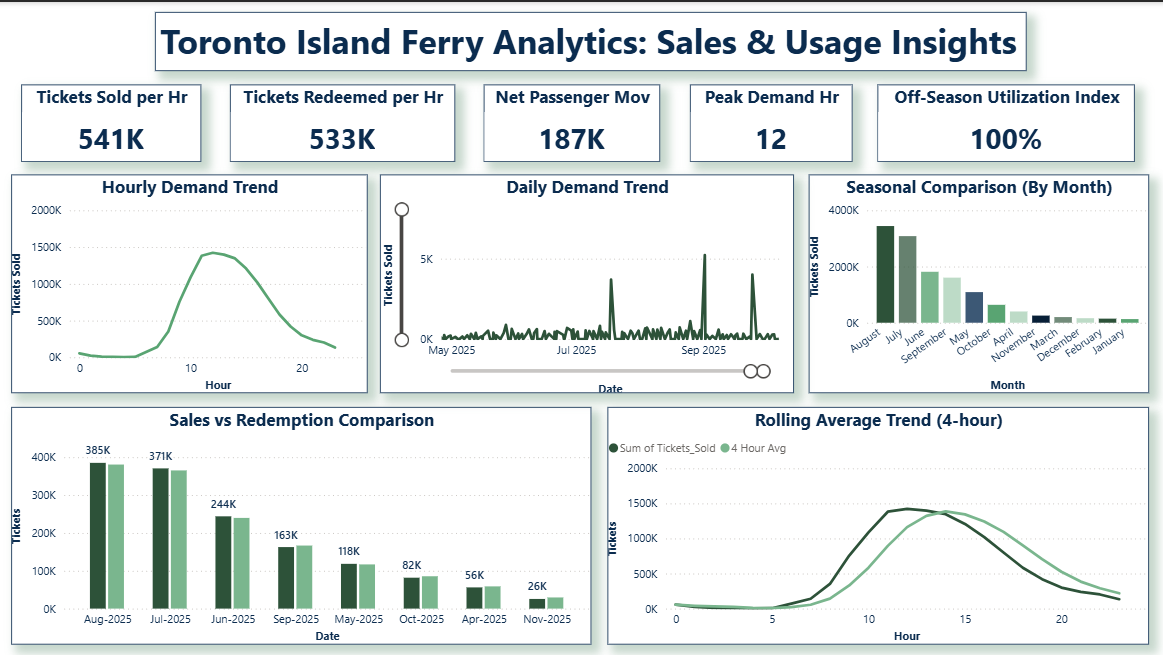

The page's visual inventory and layout, read from the dashboard file:
{"tool":"powerbi","page":{"name":"Page 1","canvas":[1280,720],"ordinal":0},"visuals":[{"type":"textbox","box":[170.2,11,956.4,64.5],"z":0},{"type":"cardVisual","title":"Tickets Sold per Hr","fields":{"Data":["Toronto Island Ferry Tickets.Tickets Sold per Hour"]},"box":[23.3,90.6,197.6,85.1],"z":1000},{"type":"cardVisual","title":"Tickets Redeemed per Hr","fields":{"Data":["Toronto Island Ferry Tickets.T redeemed per hour"]},"box":[252.5,90.6,247,85.1],"z":2000},{"type":"cardVisual","title":"Net Passenger Mov","fields":{"Data":["Toronto Island Ferry Tickets.Net passenger mov"]},"box":[531,90.6,193.5,85.1],"z":3000},{"type":"cardVisual","title":"Peak Demand Hr","fields":{"Data":["Toronto Island Ferry Tickets.Peak Demand Hour"]},"box":[757.5,90.6,178.4,85.1],"z":4000},{"type":"cardVisual","title":"Off-Season Utilization Index","fields":{"Data":["Season Sales.Off-Season Utilization Index"]},"box":[963.3,90.6,282.7,85.1],"z":5000},{"type":"lineChart","title":"Hourly Demand Trend","fields":{"Category":["1 Chart.Hour"],"Y":["Sum(1 Chart.Total Sales)"]},"box":[12.3,189.4,391.1,240.1],"z":6000},{"type":"columnChart","title":"Seasonal Comparison (By Month)","fields":{"Y":["Sum(3 Chart.Total Sales)"],"Category":["3 Chart.Month"]},"box":[887.8,189.4,373.2,240.1],"z":7000},{"type":"clusteredColumnChart","title":"Sales vs Redemption Comparison","fields":{"Category":["Sales vs redemption.Month Year"],"Y":["Sum(Sales vs redemption.Total Sales)","Sum(Sales vs redemption.Total Redemption)"]},"box":[12.3,444.6,636.7,260.7],"z":8000},{"type":"lineChart","title":"Daily Demand Trend","fields":{"Y":["Toronto Island Ferry Tickets.T_tickets_sold"],"Category":["Toronto Island Ferry Tickets.Timestamp"]},"box":[417.2,189.4,454.2,240.1],"z":9000},{"type":"lineChart","title":"Rolling Average Trend (4-hour)","fields":{"Category":["Hourly Sales.Hour"],"Y":["Sum(Hourly Sales.Tickets_Sold)","Hourly Sales.Rolling Avg 4 Hours"]},"box":[666.9,444.6,594.2,260.7],"z":10000}]}

Visuals, with their boxes in screenshot pixels (x1, y1, x2, y2), scaled from the page's 1280x720 canvas onto the 1163x655 screenshot:
textbox: x1=155 y1=10 x2=1024 y2=69
"Tickets Sold per Hr" cardVisual: x1=21 y1=82 x2=201 y2=160
"Tickets Redeemed per Hr" cardVisual: x1=229 y1=82 x2=454 y2=160
"Net Passenger Mov" cardVisual: x1=482 y1=82 x2=658 y2=160
"Peak Demand Hr" cardVisual: x1=688 y1=82 x2=850 y2=160
"Off-Season Utilization Index" cardVisual: x1=875 y1=82 x2=1132 y2=160
"Hourly Demand Trend" lineChart: x1=11 y1=172 x2=367 y2=391
"Seasonal Comparison (By Month)" columnChart: x1=807 y1=172 x2=1146 y2=391
"Sales vs Redemption Comparison" clusteredColumnChart: x1=11 y1=404 x2=590 y2=642
"Daily Demand Trend" lineChart: x1=379 y1=172 x2=792 y2=391
"Rolling Average Trend (4-hour)" lineChart: x1=606 y1=404 x2=1146 y2=642
